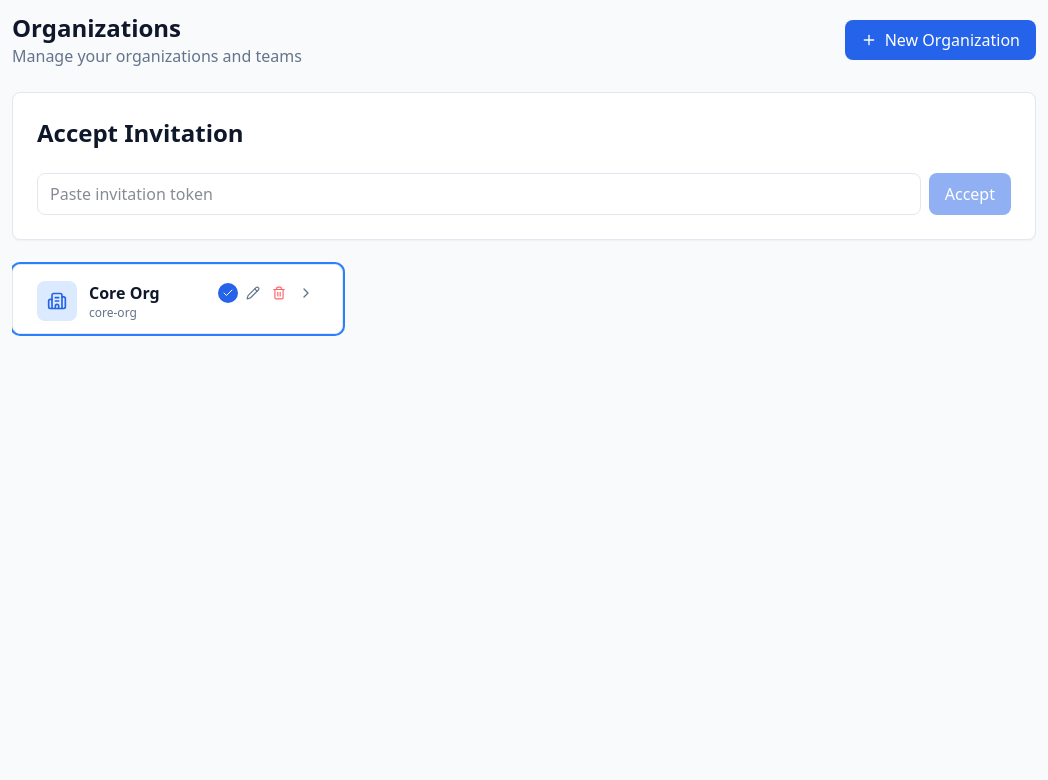
Test: TenantsPage › renders tenant operations and toggles create form
The image size is (1048, 780).
Click the button "New Organization" at (940, 40), box [845, 20, 1036, 60]
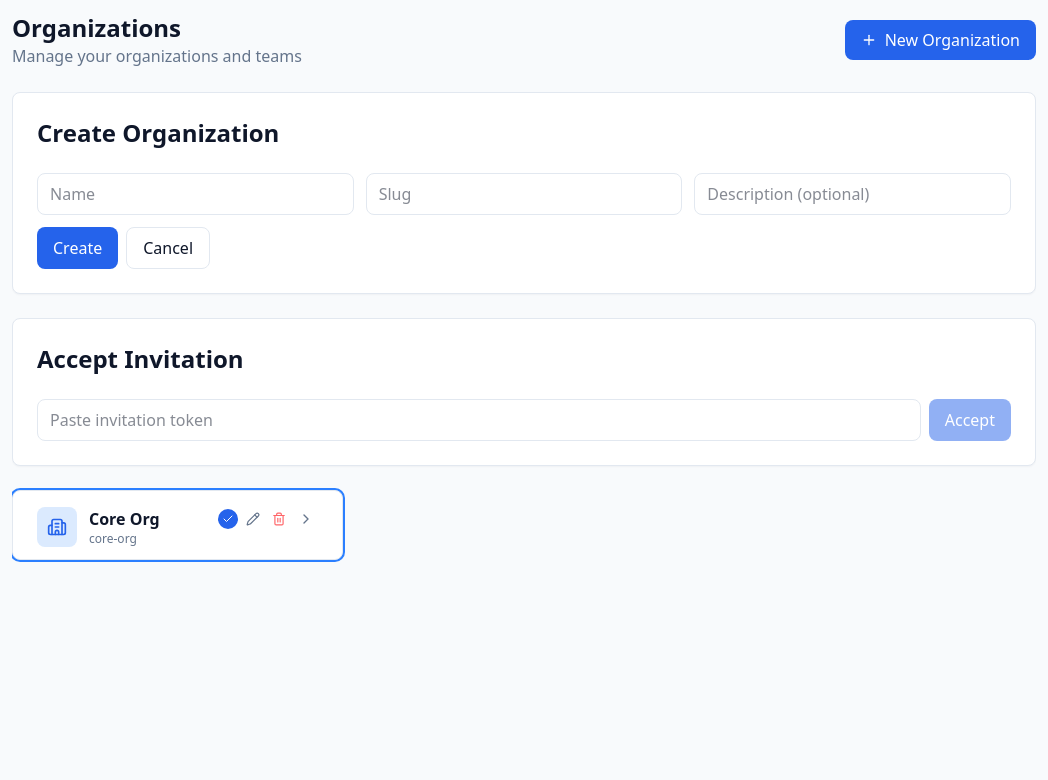
Expected: the text "Create Organization" is shown, [37, 116, 279, 149]
